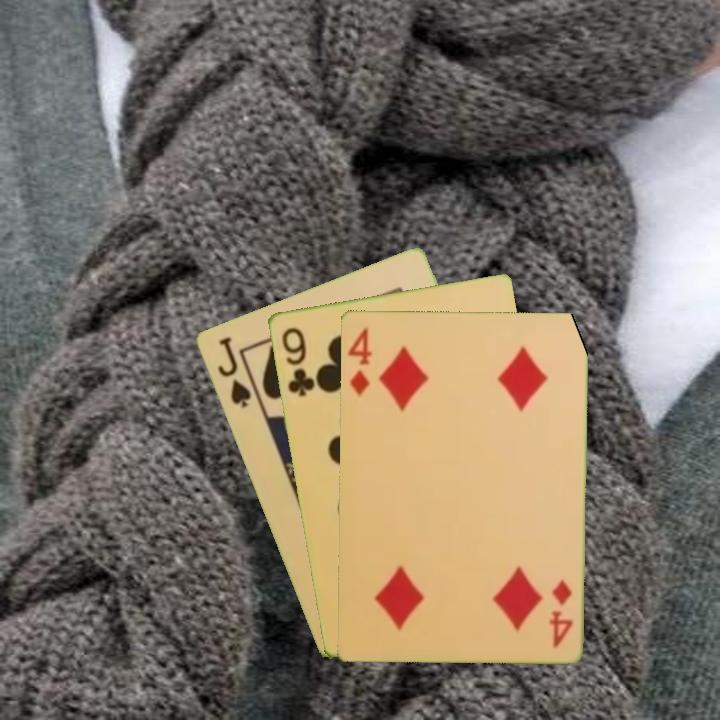4d: (344, 323, 375, 399), (546, 575, 576, 650)
9c: (277, 323, 317, 399)
Js: (213, 333, 254, 411)
